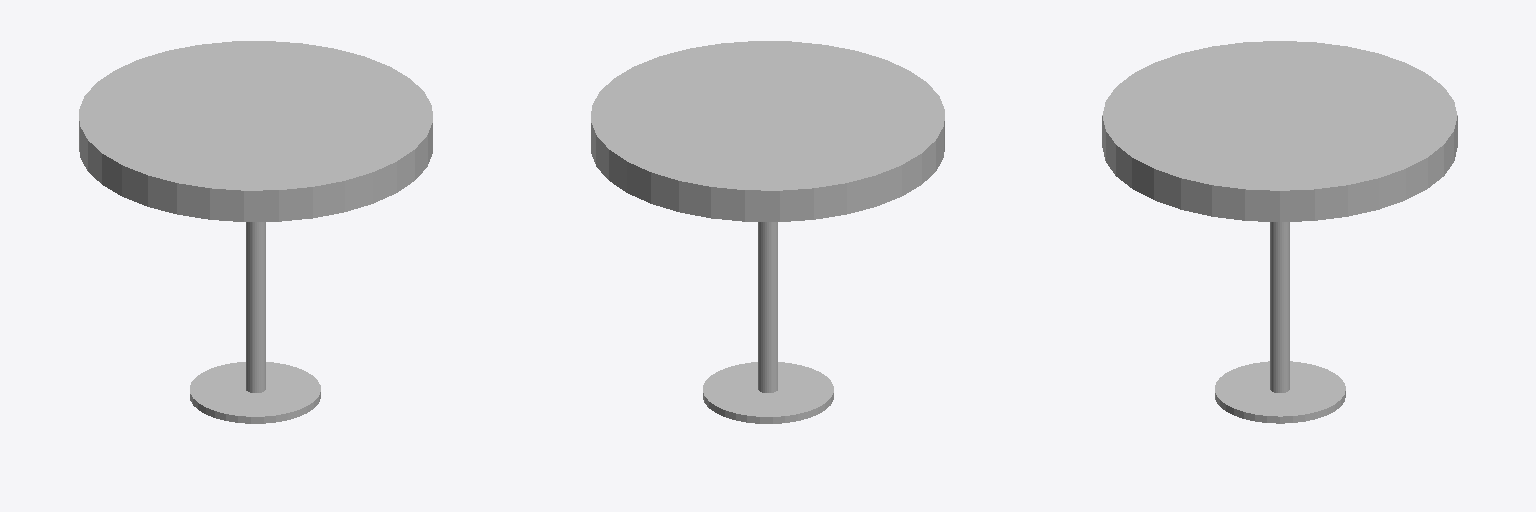
File: MetalTableSmall.obj
The picture shows the model from 3 angles: view 1: azimuth 30°, elevation 25°; view 2: azimuth 150°, elevation 25°; view 3: azimuth 270°, elevation 25°; orthographic projection.
Visible parts, largest first — view 1: MetalTable2; view 2: MetalTable2; view 3: MetalTable2.
Boxes of the visible parts, x1,y1,x2,y2 form: MetalTable2: [79, 41, 432, 423]; MetalTable2: [591, 41, 944, 423]; MetalTable2: [1102, 41, 1457, 423].
Bounding box in the file's own units: 0.9596 × 0.8353 × 0.9596.